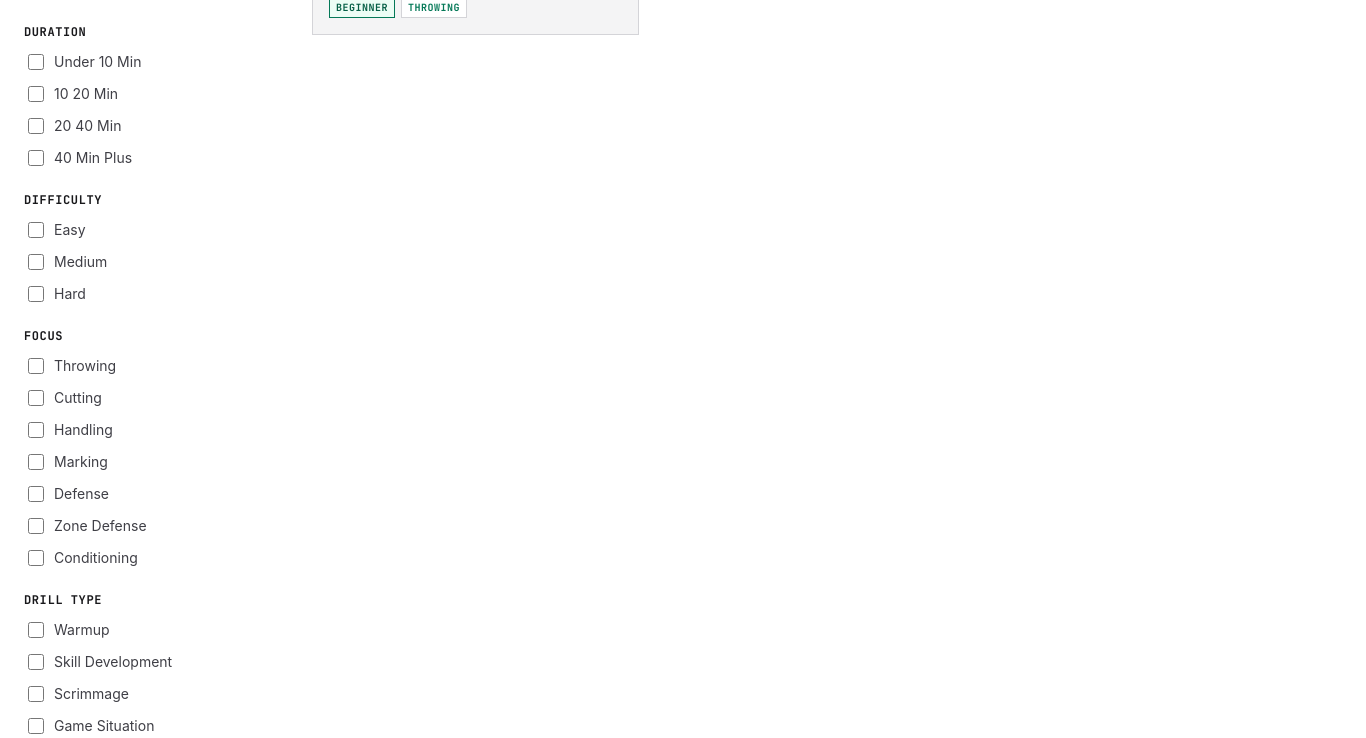
Scenario: Search page — query and filters › combines values within a category with OR: both focus values repeat
(page scrolled)
Click the checkbox labelled "throwing" at (36, 366), box [28,358,44,374]
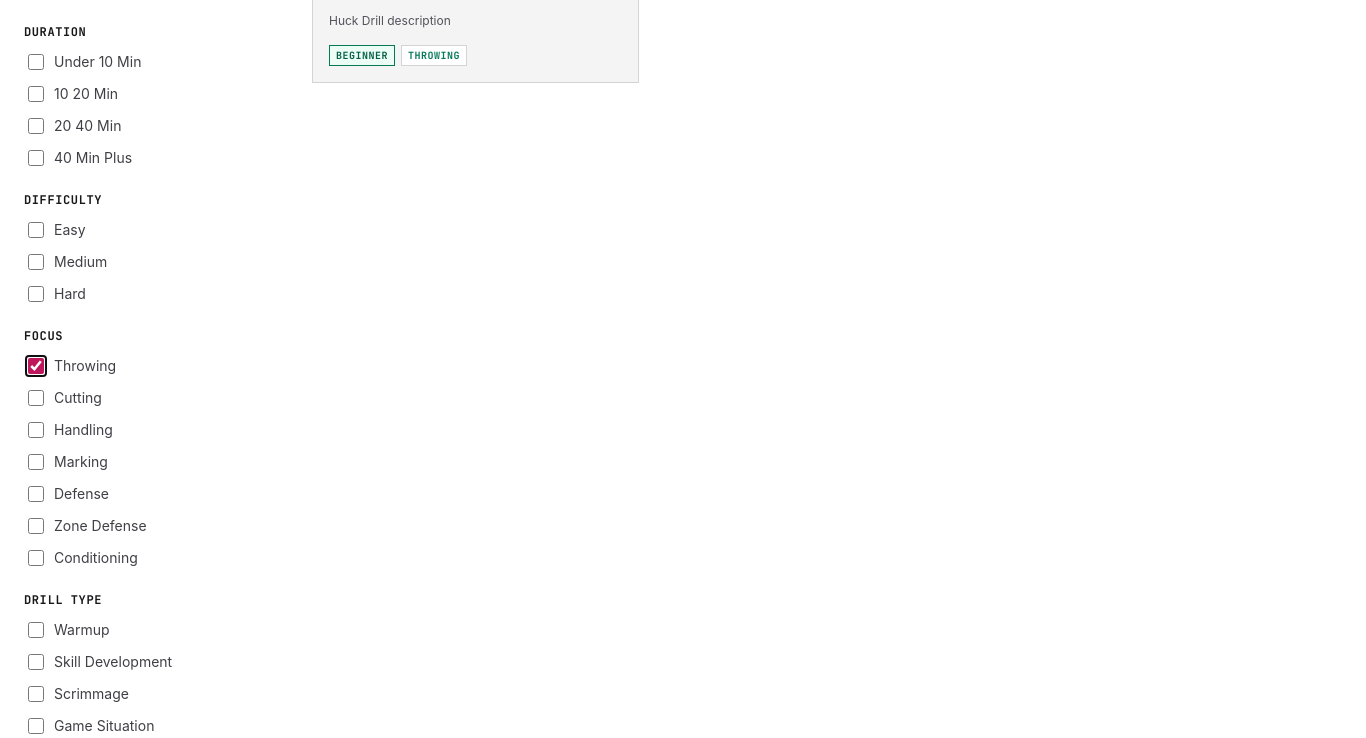
Click the checkbox labelled "cutting" at (36, 398), box [28,390,44,406]
(page scrolled)
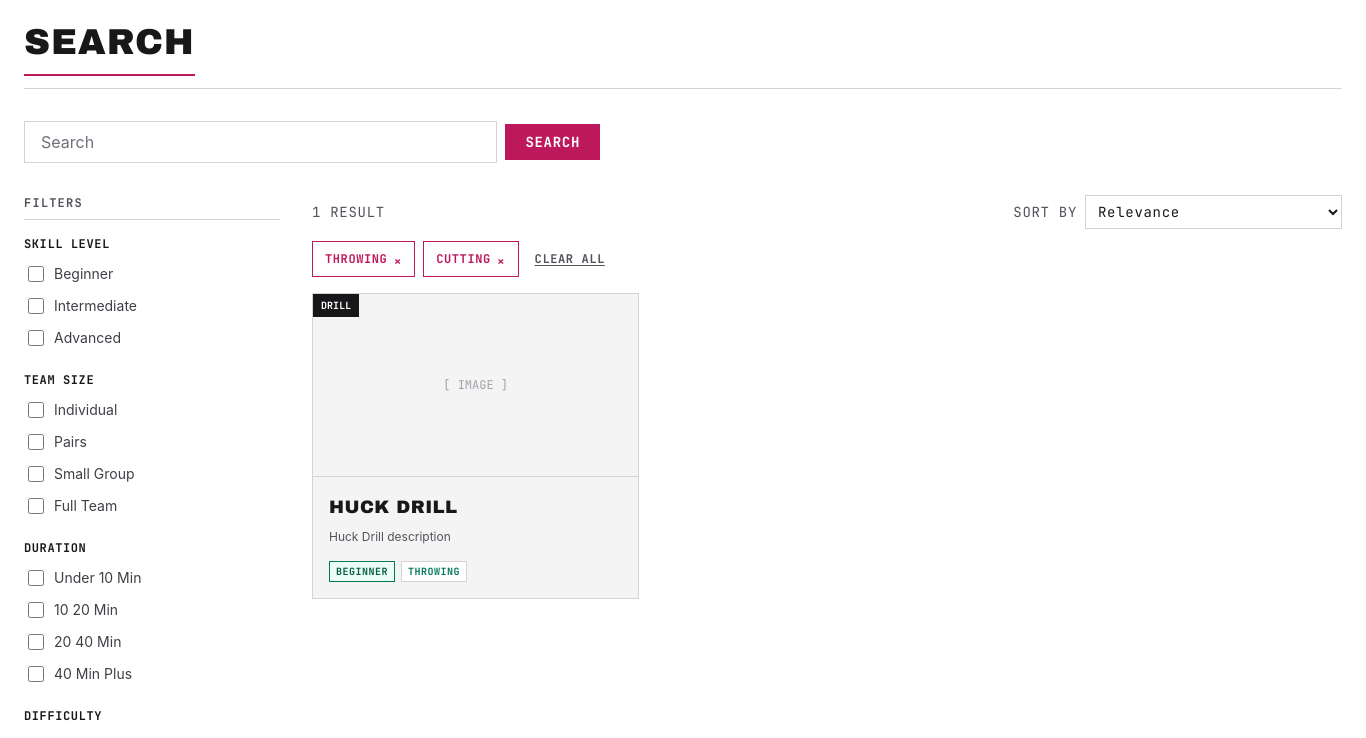
Result: the button with aria-label "Remove filter Focus: cutting" is shown at [423,241,519,277]
